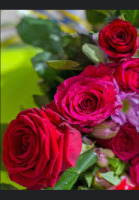RedRose: (4, 105, 77, 187), (54, 58, 116, 122), (102, 19, 138, 57), (111, 121, 139, 163), (114, 55, 138, 97)
